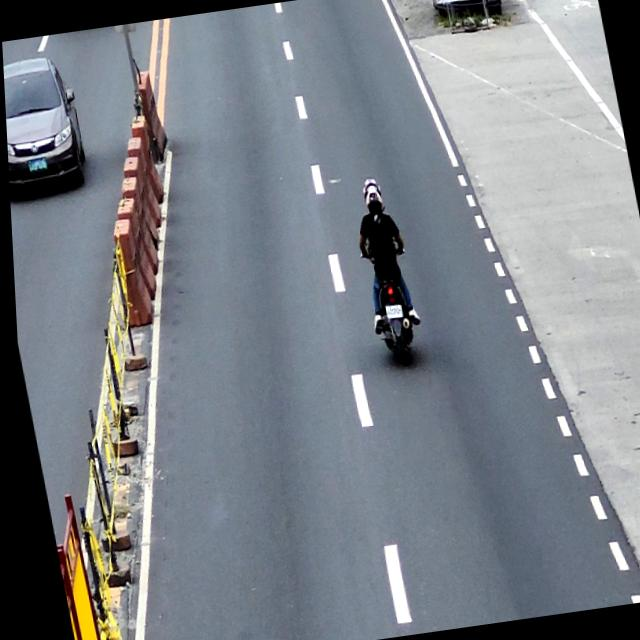Car: (2, 53, 91, 202)
License-Plate: (25, 158, 47, 175), (382, 304, 401, 322)
Motorcycle: (358, 238, 422, 372)
